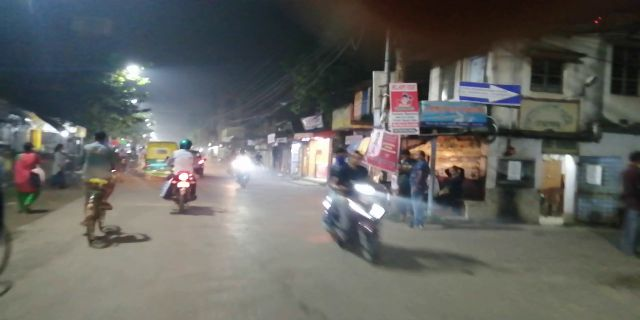Cycle: (77, 124, 118, 244)
Motorbike: (313, 145, 387, 262), (153, 132, 197, 210)
